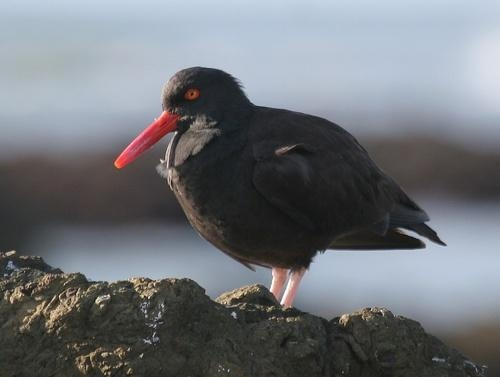bird: (114, 65, 450, 308)
